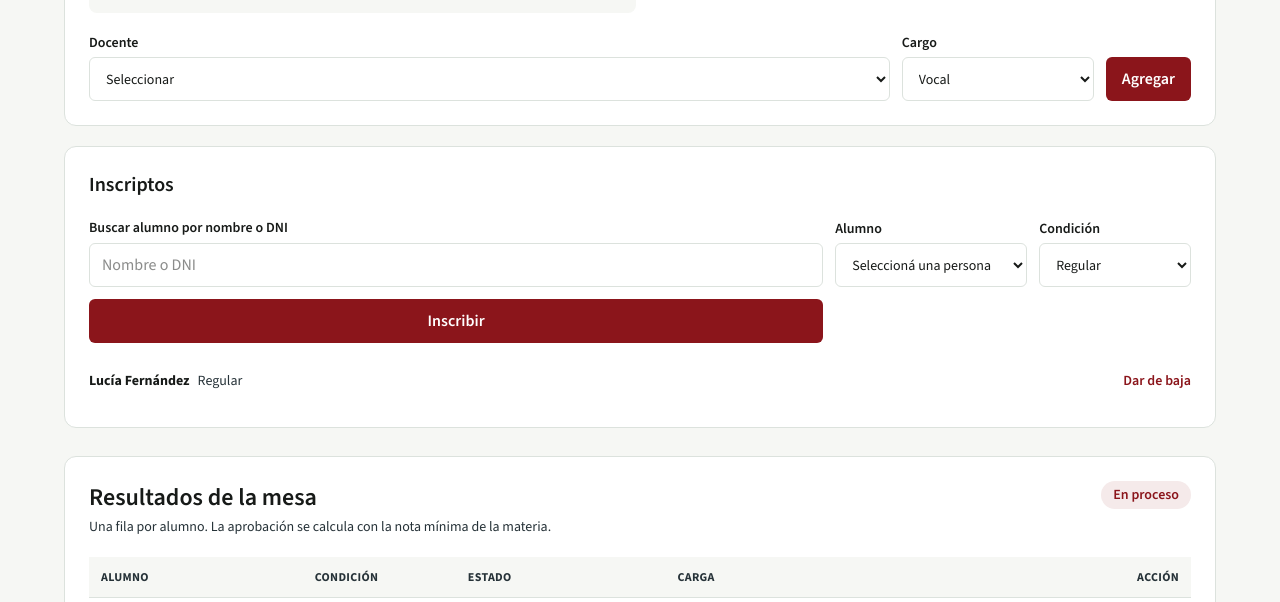
Test: AdminExamsView › refreshes the workspace after a withdrawal conflict and allows retry
(page scrolled)
Step 1. Click the button "Dar de baja" → (1157, 381), box [1123,371,1191,391]
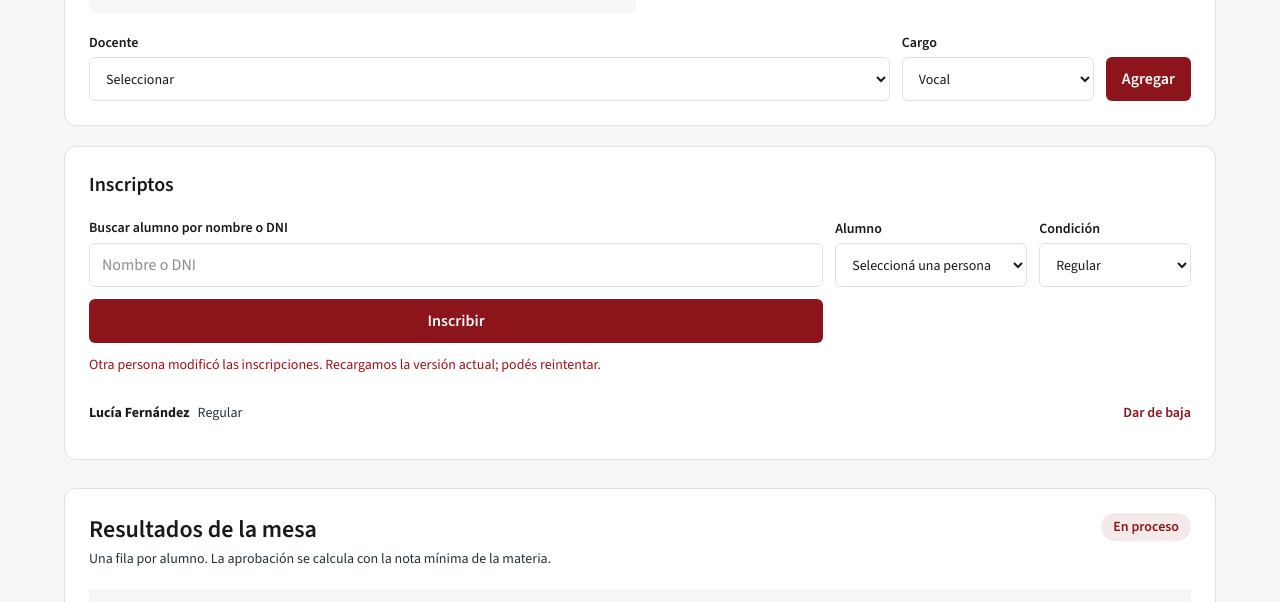
Expected: the text "Otra persona modificó las inscripciones" is shown, [89,355,601,374]
Step 2. Click the button "Dar de baja" → (1157, 413), box [1123,403,1191,423]
(page scrolled)
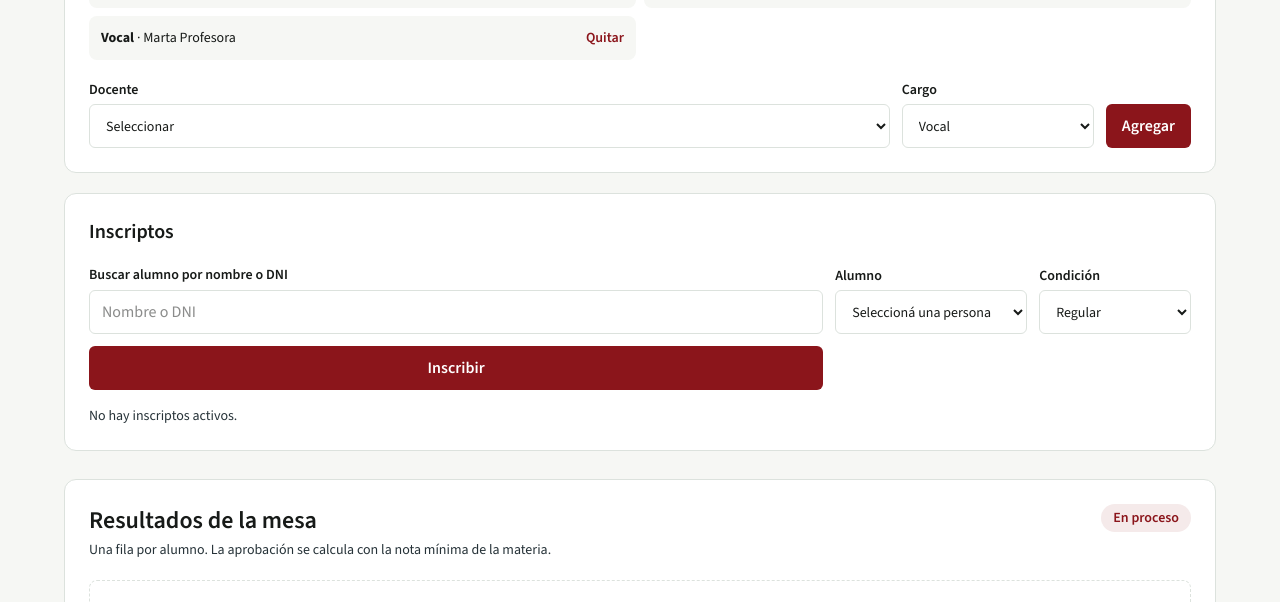
Expected: the text "Otra persona modificó las inscripciones" is gone
